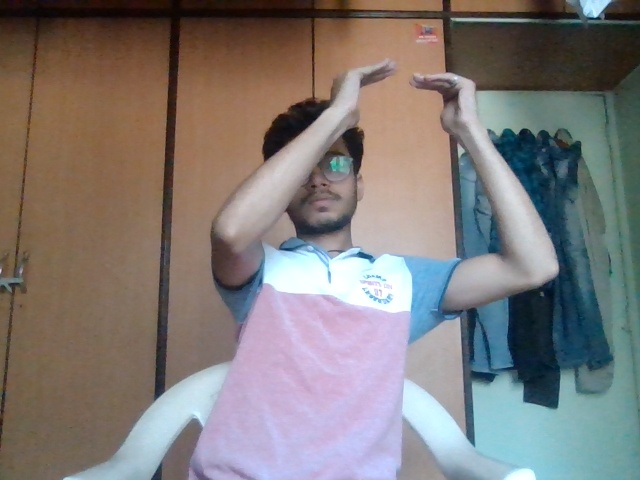afternoon: (312, 57, 500, 140)
